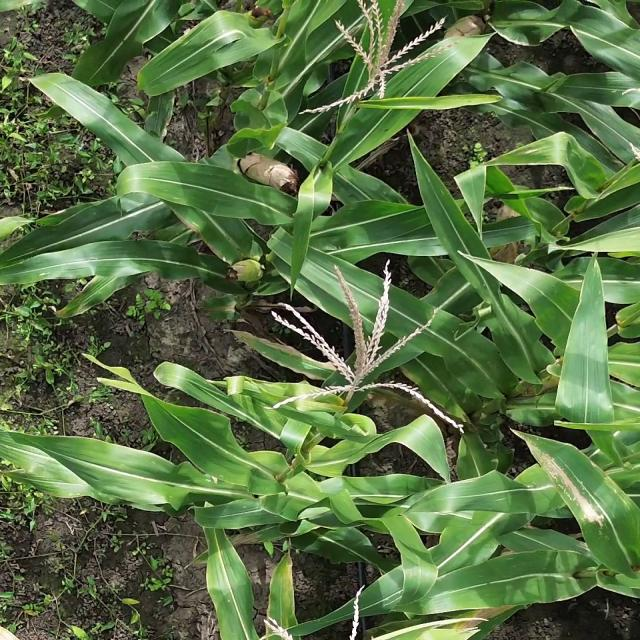gray-leaf-spot: (71, 278, 111, 310)
northern-leaf-blight: (540, 452, 622, 530), (455, 602, 519, 640)
southern-leaf-blight: (56, 481, 128, 507), (586, 270, 610, 315), (276, 570, 295, 612)
